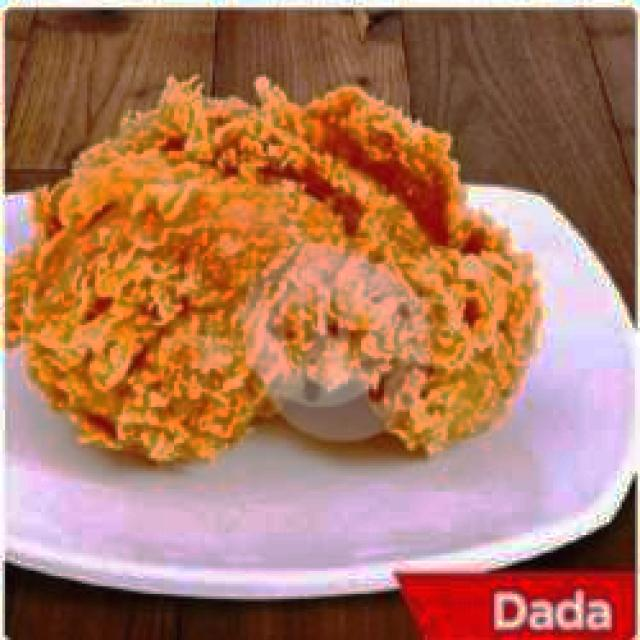fried_chicken: (0, 61, 538, 464)
